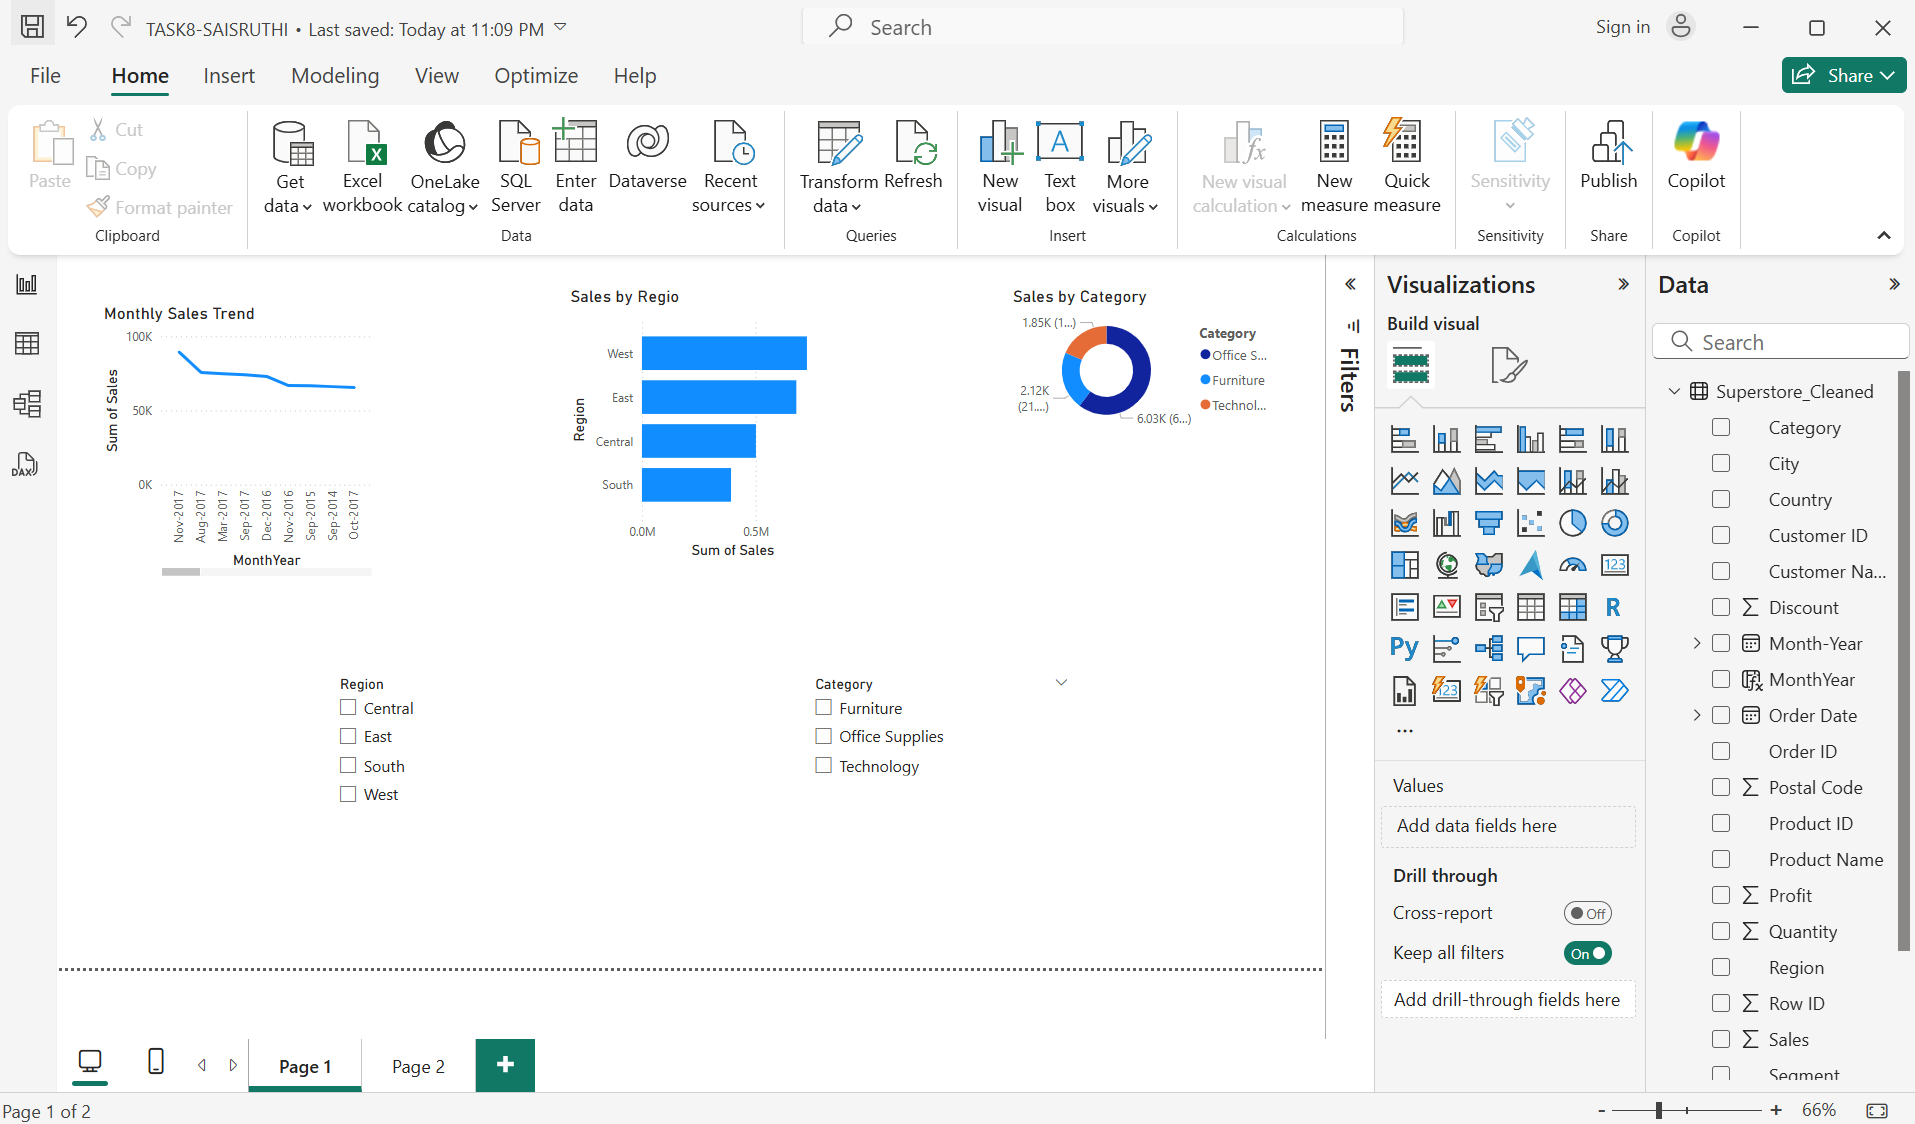

What the dashboard file says about the page in this screenshot:
{"tool":"powerbi","page":{"name":"Page 1","canvas":[1280,720],"ordinal":0},"visuals":[{"type":"lineChart","title":"Monthly Sales Trend","fields":{"Category":["Superstore_Cleaned.MonthYear"],"Y":["Sum(Superstore_Cleaned.Sales)"]},"box":[42.4,48.5,280.1,280.1],"z":0},{"type":"clusteredBarChart","title":"Sales by Regio","fields":{"Category":["Superstore_Cleaned.Region"],"Y":["Sum(Superstore_Cleaned.Sales)"]},"box":[513.3,31.8,280.1,278.6],"z":1},{"type":"donutChart","title":"Sales by Category","fields":{"Category":["Superstore_Cleaned.Category"],"Y":["CountNonNull(Superstore_Cleaned.Row ID)"]},"box":[960,31.8,280.1,149.9],"z":2},{"type":"slicer","fields":{"Values":["Superstore_Cleaned.Region"]},"box":[272.6,419.4,280.1,149.9],"z":3},{"type":"slicer","fields":{"Values":["Superstore_Cleaned.Category"]},"box":[752.6,419.4,280.1,149.9],"z":4}]}

Visuals, with their boxes on the page's 1280x720 design canvas (x1, y1, x2, y2). These are canvas units, not pixel positions in the 1915x1124 screenshot, which may show the page scaled, cropped or inside an application window:
"Monthly Sales Trend" lineChart: crop(42, 48, 322, 329)
"Sales by Regio" clusteredBarChart: crop(513, 32, 793, 310)
"Sales by Category" donutChart: crop(960, 32, 1240, 182)
slicer - Superstore_Cleaned.Region: crop(273, 419, 553, 569)
slicer - Superstore_Cleaned.Category: crop(753, 419, 1033, 569)
